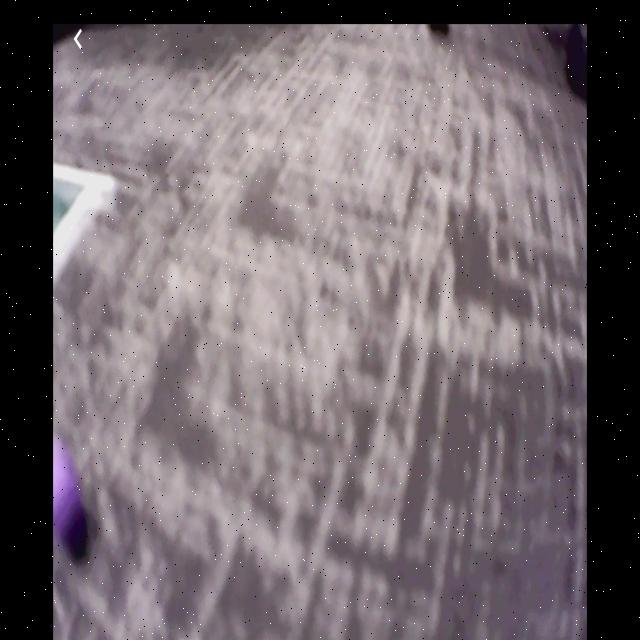ball: (54, 446, 86, 546)
